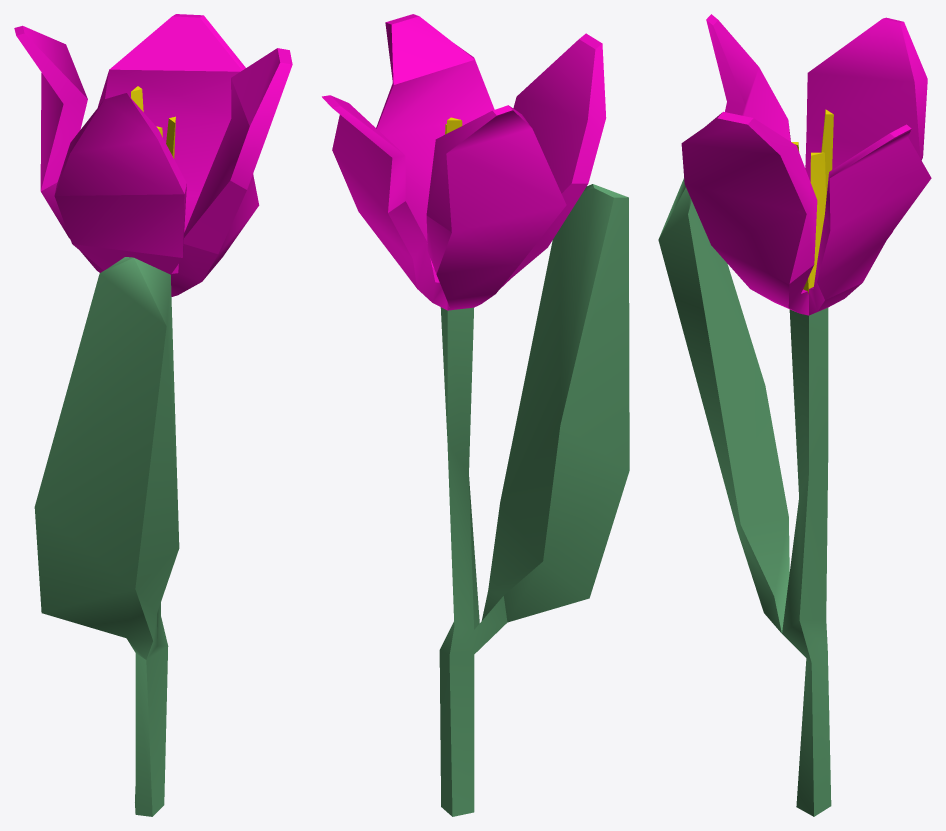
Rendered from Tulip.fbx.
3 views of the same model, side by side, from view 1: azimuth 30°, elevation 25°; view 2: azimuth 150°, elevation 25°; view 3: azimuth 270°, elevation 25° (orthographic). The views are drawn at different scales.
Visible parts, largest first — view 1: pCylinder3; view 2: pCylinder3; view 3: pCylinder3.
Boxes of the visible parts, x1=… form: pCylinder3: x1=14, y1=14, x2=292, y2=816; pCylinder3: x1=322, y1=14, x2=629, y2=816; pCylinder3: x1=658, y1=14, x2=931, y2=816.
Size of the model in its own units: 15.27 by 42.73 by 14.05.
